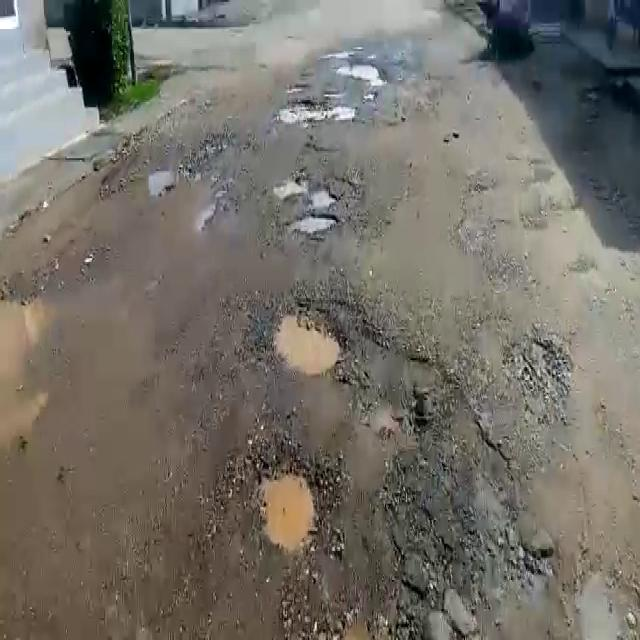pothole: (251, 457, 323, 549), (271, 301, 345, 378), (274, 97, 338, 128), (276, 172, 336, 204), (285, 208, 338, 241), (334, 57, 388, 81)
